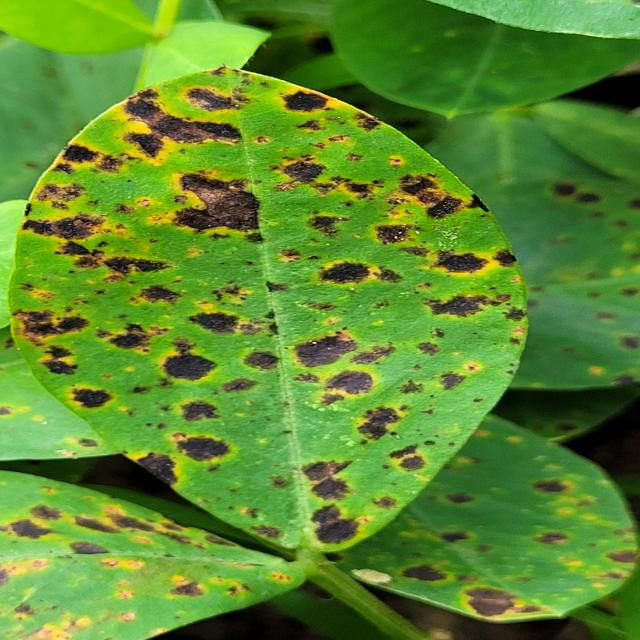Ground nut_tikka leaf spot: (2, 64, 540, 558), (3, 467, 314, 640)
